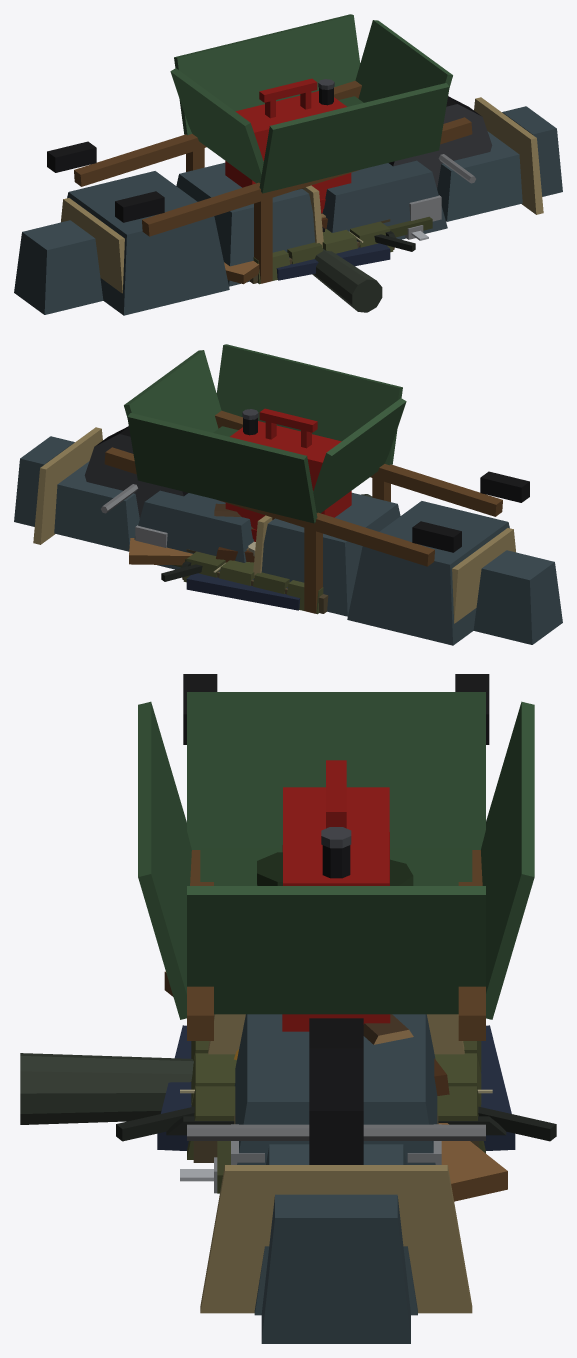
Rendered from items.glb.
The picture shows the model from 3 angles, top to bottom: view 1: azimuth 30°, elevation 25°; view 2: azimuth 150°, elevation 25°; view 3: azimuth 270°, elevation 25°; orthographic projection. The views are drawn at different scales.
Visible parts, largest first — view 1: cart, corpse, fuel, armour, hand, coat_v1, sledge, wood, crossbow; view 2: cart, corpse, fuel, armour, coat_v1, wood, sledge, crossbow; view 3: cart, corpse, fuel, hand, armour, coat_v1, crossbow, wood, boots_v1, sledge, wood_v1.
Boxes of the visible parts, x1,y1,x2,y2 form: cart: [47, 14, 492, 283]; corpse: [14, 97, 562, 315]; fuel: [225, 78, 351, 213]; armour: [253, 216, 432, 284]; hand: [312, 249, 382, 312]; coat_v1: [276, 240, 390, 280]; sledge: [409, 195, 441, 221]; wood: [224, 261, 259, 284]; crossbow: [349, 231, 415, 251]; cart: [84, 344, 529, 613]; corpse: [14, 427, 562, 645]; fuel: [225, 408, 351, 541]; armour: [172, 551, 323, 614]; coat_v1: [186, 570, 300, 610]; wood: [129, 538, 192, 565]; sledge: [135, 525, 167, 547]; crossbow: [161, 561, 225, 581]; cart: [138, 674, 534, 1164]; corpse: [200, 1014, 472, 1343]; fuel: [282, 760, 390, 1031]; hand: [20, 1053, 193, 1124]; armour: [187, 1041, 485, 1193]; coat_v1: [157, 1025, 515, 1150]; crossbow: [116, 1089, 556, 1141]; wood: [164, 971, 507, 1201]; boots_v1: [257, 852, 413, 885]; sledge: [231, 1124, 441, 1164]; wood_v1: [363, 1014, 413, 1044].
Bounding box in the file's own units: 1.75 × 0.5819 × 0.7892.
